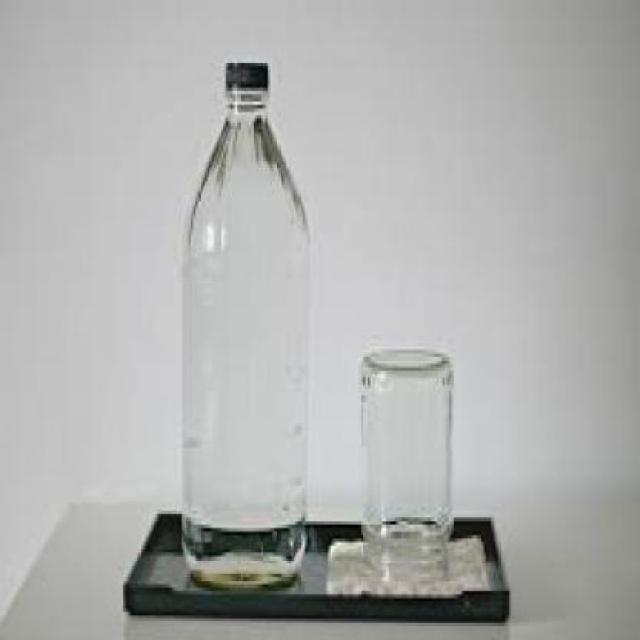GLASS: (184, 80, 311, 588), (366, 350, 456, 581)
METAL: (228, 59, 272, 84)
